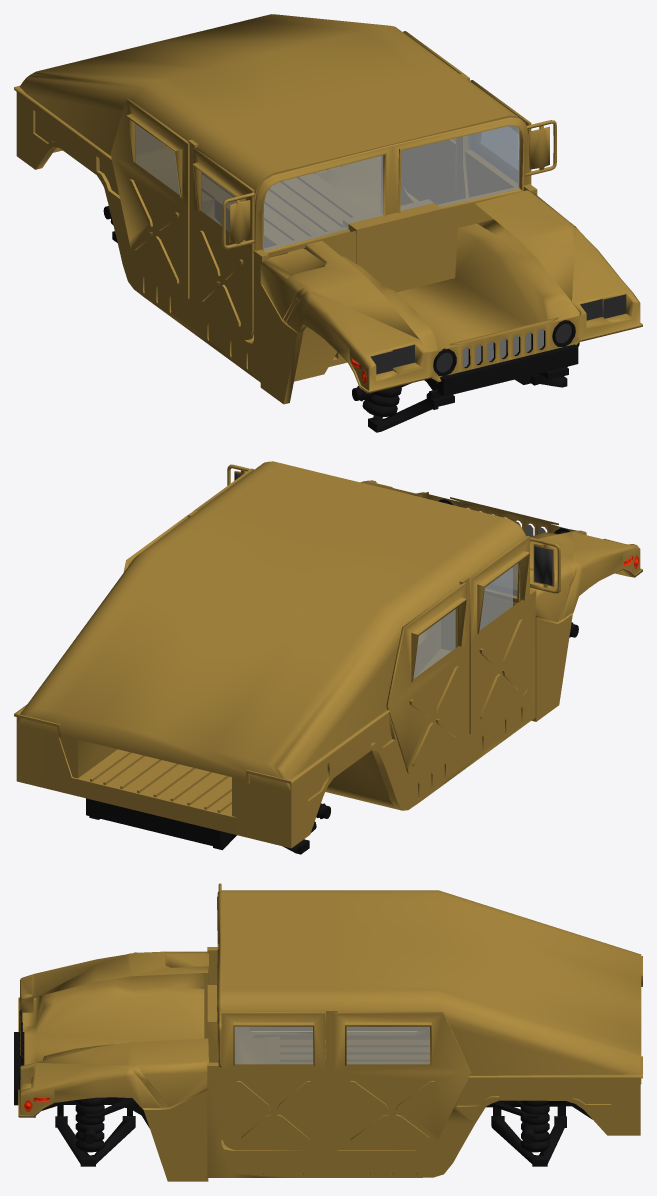
File: Auto.obj
The picture shows the model from 3 angles, top to bottom: view 1: azimuth 30°, elevation 25°; view 2: azimuth 150°, elevation 25°; view 3: azimuth 270°, elevation 25°; orthographic projection. The views are drawn at different scales.
Parts seen in each view (by area): view 1: glass_1_tan, glass_1_New, glass_1_dkgrey, glass_1_grey, glass_1_flgrey; view 2: glass_1_tan, glass_1_dkgrey, glass_1_New, glass_1_grey; view 3: glass_1_tan, glass_1_dkgrey, glass_1_New.
Boxes of the visible parts, box(x1,y1,x2,y2) form: glass_1_tan: box(14, 14, 642, 404); glass_1_New: box(135, 124, 519, 251); glass_1_dkgrey: box(103, 206, 579, 432); glass_1_grey: box(370, 294, 626, 374); glass_1_flgrey: box(462, 329, 543, 367); glass_1_tan: box(14, 461, 642, 848); glass_1_dkgrey: box(86, 499, 578, 854); glass_1_New: box(413, 526, 520, 678); glass_1_grey: box(235, 473, 564, 585); glass_1_tan: box(18, 883, 642, 1181); glass_1_dkgrey: box(14, 1009, 592, 1166); glass_1_New: box(234, 1026, 429, 1064).
Bounding box in the file's own units: 57.85 × 34.31 × 107.
